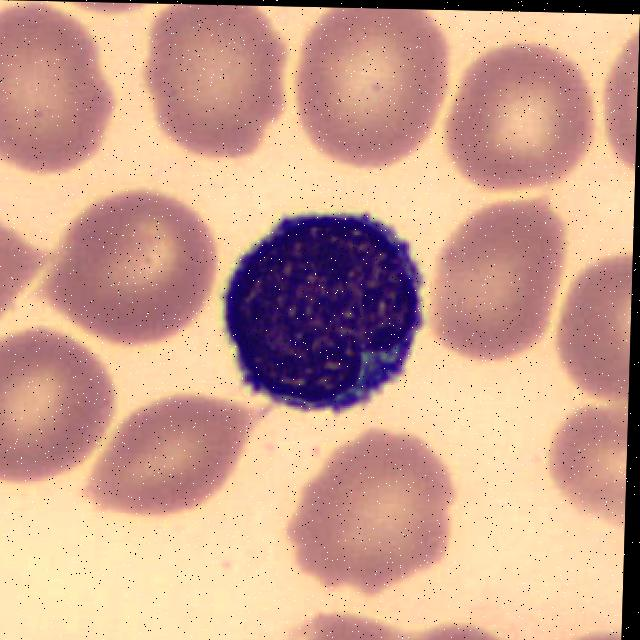lymphocyte: (208, 209, 436, 430)
rbc: (40, 196, 220, 351), (290, 434, 454, 596), (428, 196, 568, 362), (302, 7, 442, 168), (83, 392, 252, 523), (446, 45, 584, 187), (155, 4, 276, 163), (0, 4, 111, 176), (0, 326, 118, 486), (559, 245, 633, 397), (548, 415, 628, 537), (601, 13, 640, 187), (0, 211, 50, 331), (297, 615, 400, 640), (28, 1, 160, 20), (405, 625, 526, 640), (551, 625, 622, 640)
